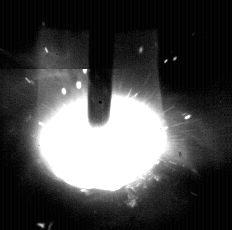arame: (89, 0, 112, 126)
poca: (38, 0, 169, 230)
